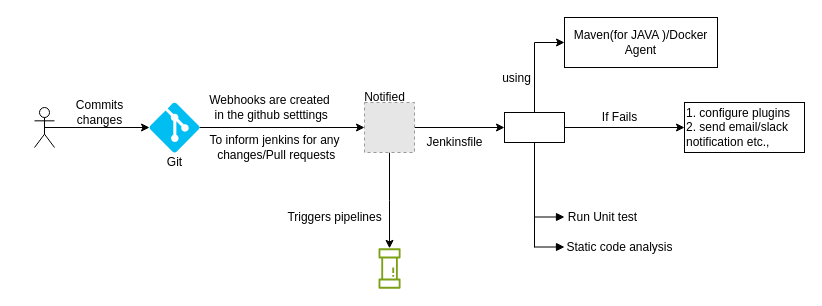
Image size: 822x306. Some labels were removed from this diagram. Grey dashed boxes stand in for pictures. Here are the shapes that lost their labels. From the top down, the centre of each, then its label:
the point at 44,127: Developer
the point at 534,127: Build
